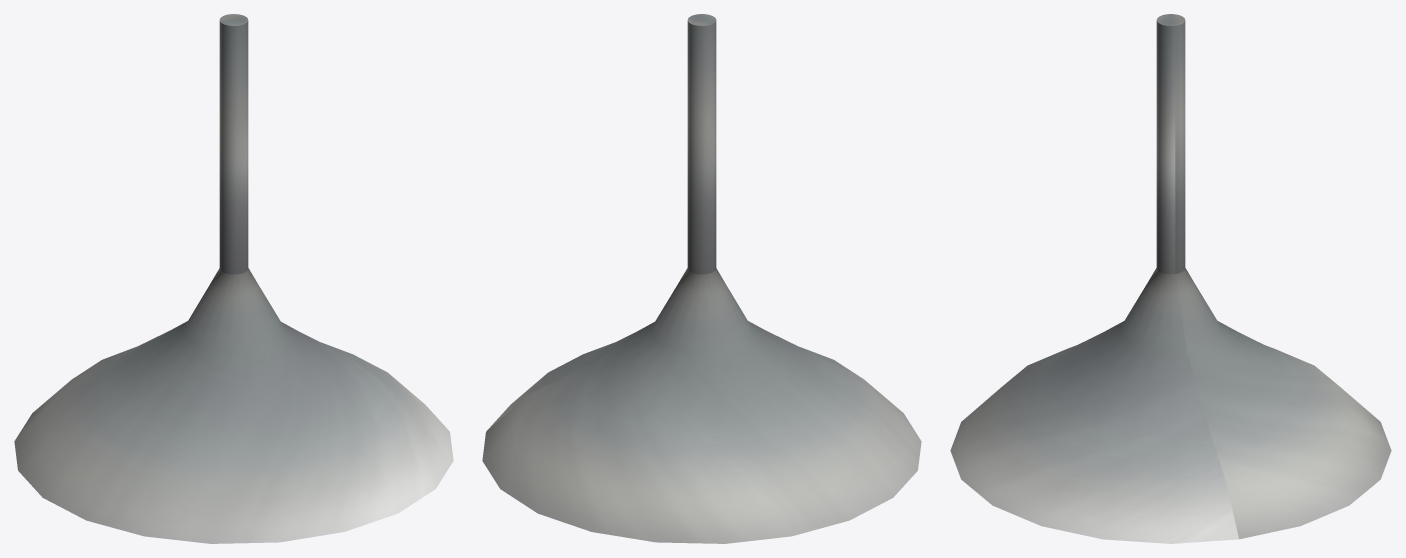
File: ceiling lamp.fbx
3 views of the same model, side by side, from view 1: azimuth 30°, elevation 25°; view 2: azimuth 150°, elevation 25°; view 3: azimuth 270°, elevation 25° (orthographic).
Visible parts, largest first — view 1: lamp; view 2: lamp; view 3: lamp.
Part boxes in pixels (<box>): lamp: <box>14,14,453,543</box>; lamp: <box>482,14,921,543</box>; lamp: <box>950,14,1391,543</box>.
Bounding box in the file's own units: 12.96 × 15.79 × 12.96.
